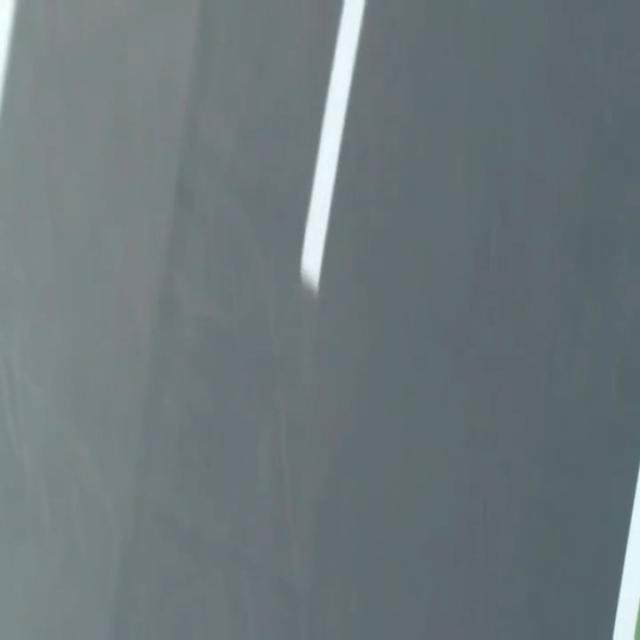center: (300, 0, 365, 293)
right: (612, 468, 639, 639)
